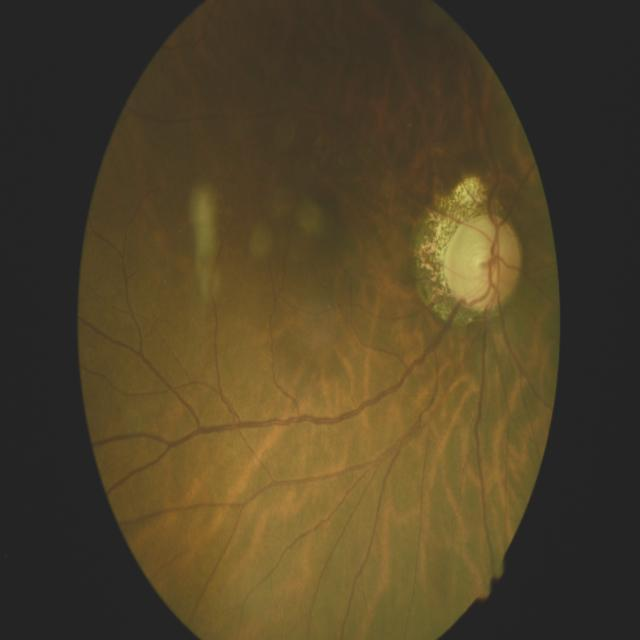cup: (452, 223, 508, 301)
disk: (444, 212, 522, 314)
